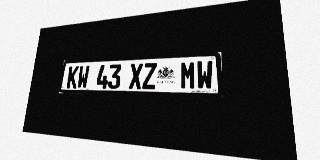3: (108, 64, 121, 89)
4: (96, 65, 109, 89)
K: (66, 66, 79, 88)
M: (180, 61, 196, 89)
W: (196, 60, 213, 90), (77, 65, 90, 89)
X: (129, 63, 143, 89)
Z: (142, 63, 157, 89)
